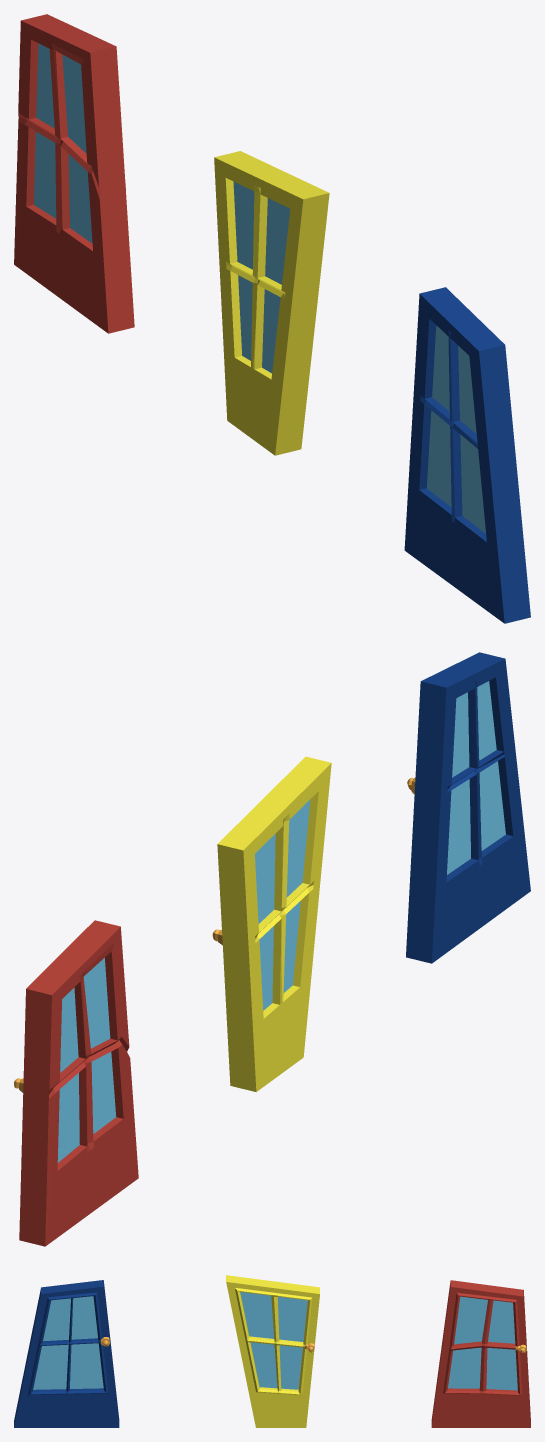
File: Portes_clean.fbx
The picture shows the model from 3 angles, top to bottom: view 1: azimuth 30°, elevation 25°; view 2: azimuth 150°, elevation 25°; view 3: azimuth 270°, elevation 25°; orthographic projection. The views are drawn at different scales.
Visible parts, largest first — view 1: Porte.Gauche_Clean, Porte.Droite_Clen, Porte.Milieu_Clean; view 2: Porte.Droite_Clen, Porte.Gauche_Clean, Porte.Milieu_Clean; view 3: Porte.Droite_Clen, Porte.Gauche_Clean, Porte.Milieu_Clean.
Part boxes in pixels (x1,y1,x2,y2): Porte.Gauche_Clean: (404,287,530,623); Porte.Droite_Clen: (14,14,134,333); Porte.Milieu_Clean: (214,151,329,455); Porte.Droite_Clen: (14,920,138,1246); Porte.Gauche_Clean: (406,652,530,963); Porte.Milieu_Clean: (212,756,331,1091); Porte.Droite_Clen: (431,1280,530,1427); Porte.Gauche_Clean: (14,1280,119,1427); Porte.Milieu_Clean: (226,1275,319,1427).
Size of the model in its own units: 57.23 by 389 by 1250.
